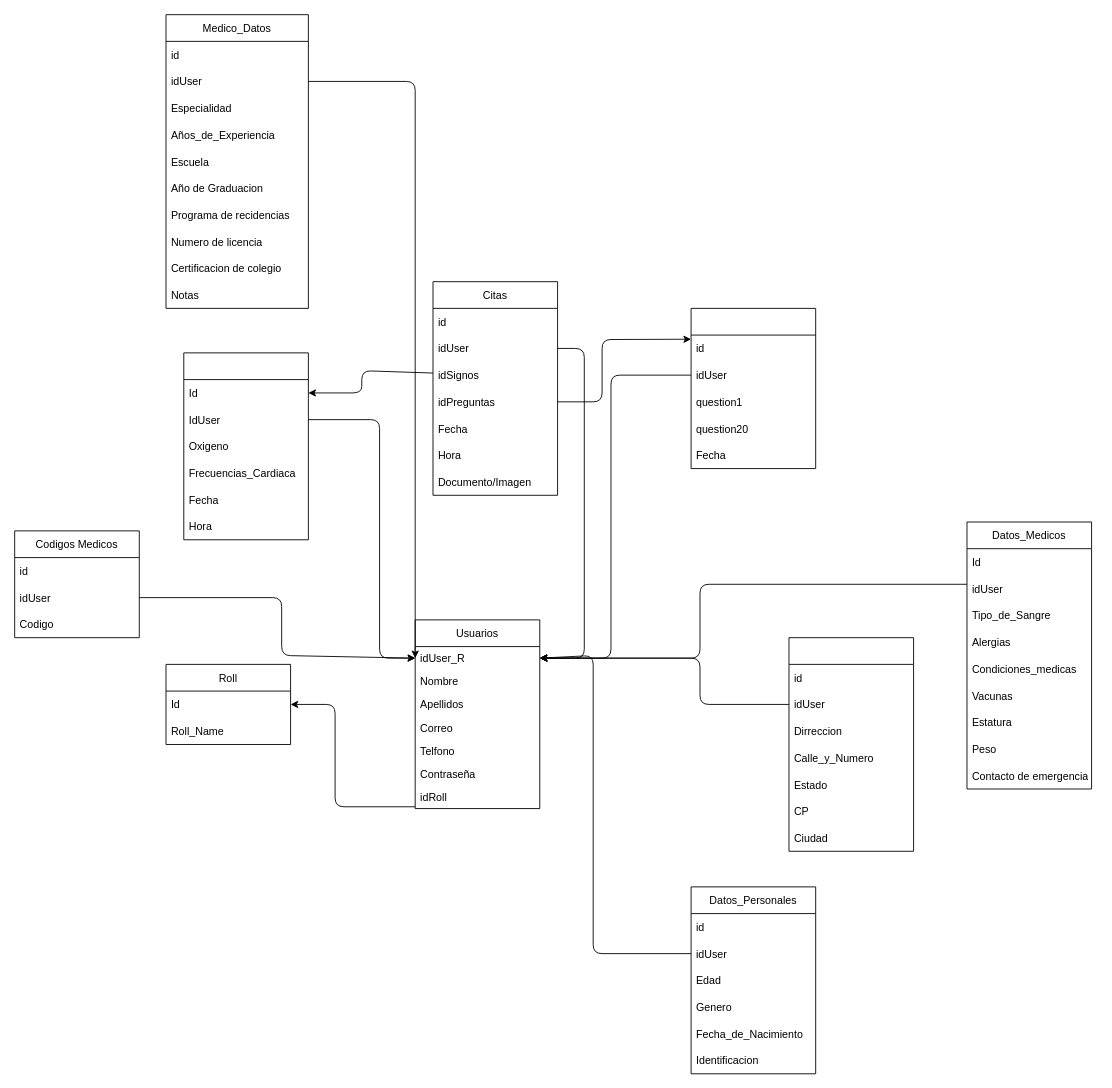
Image size: 1112x1088. Some labels were removed from this diagram. Each missing label, with the box of its shape:
Preguntas: (690, 307, 816, 469)
Registro_Signos: (183, 352, 308, 540)
Residencia: (788, 637, 914, 851)
